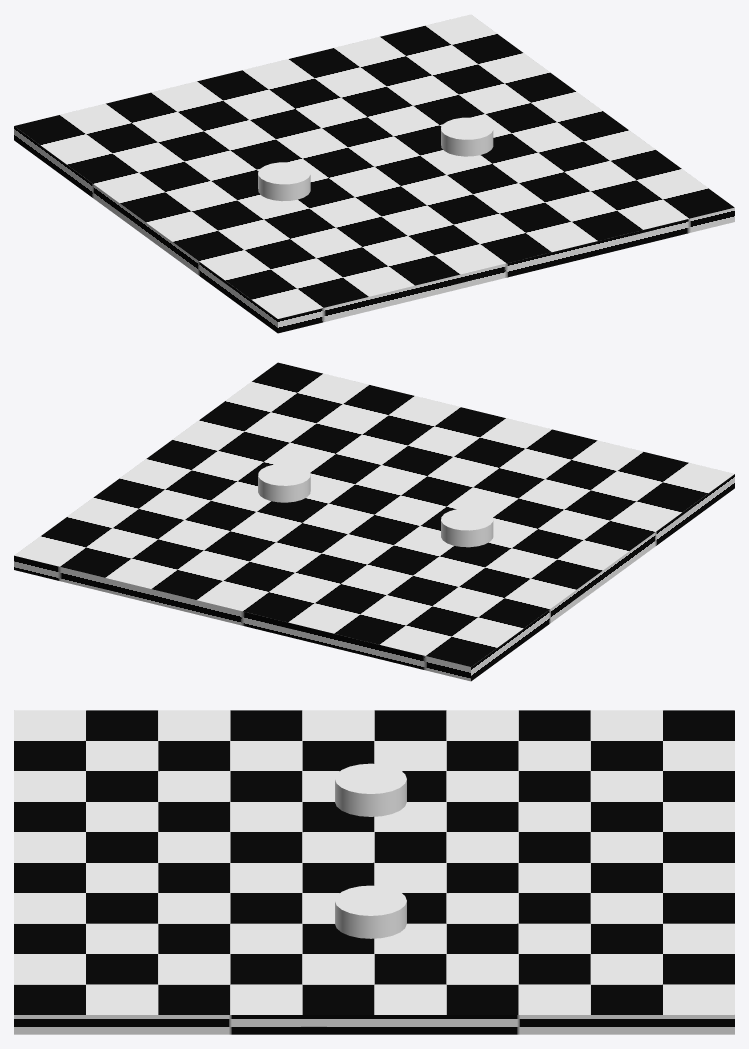
The model's file is tenjo2.fbx.
3 renders of one model, top to bottom at view 1: azimuth 30°, elevation 25°; view 2: azimuth 150°, elevation 25°; view 3: azimuth 270°, elevation 25°, orthographic. The views are drawn at different scales.
Visible parts, largest first — view 1: pCube2, pCylinder2, pCylinder3; view 2: pCube2, pCylinder2, pCylinder3; view 3: pCube2, pCylinder2, pCylinder3.
Boxes of the visible parts, box(x1,y1,x2,y2) form: pCube2: box(14, 14, 734, 333); pCylinder2: box(441, 117, 493, 156); pCylinder3: box(258, 162, 310, 201); pCube2: box(14, 362, 734, 681); pCylinder2: box(258, 463, 310, 502); pCylinder3: box(441, 508, 493, 547); pCube2: box(14, 710, 734, 1034); pCylinder2: box(335, 885, 406, 938); pCylinder3: box(335, 763, 406, 816).
Bounding box in the file's own units: 1000 × 100 × 1000.
Materials: 2 (1 with a texture image).
